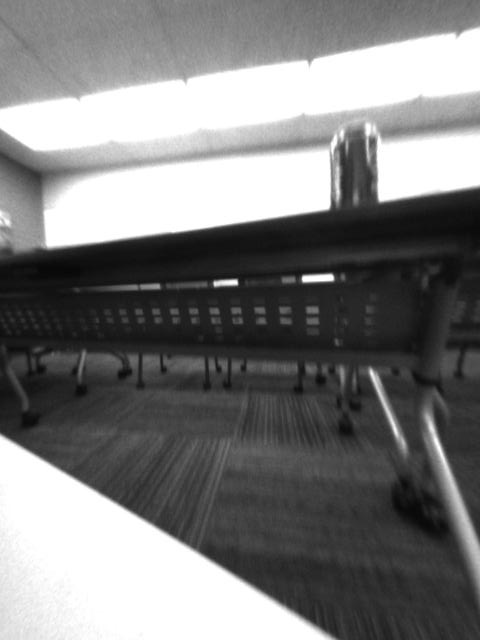can: (328, 119, 383, 208)
